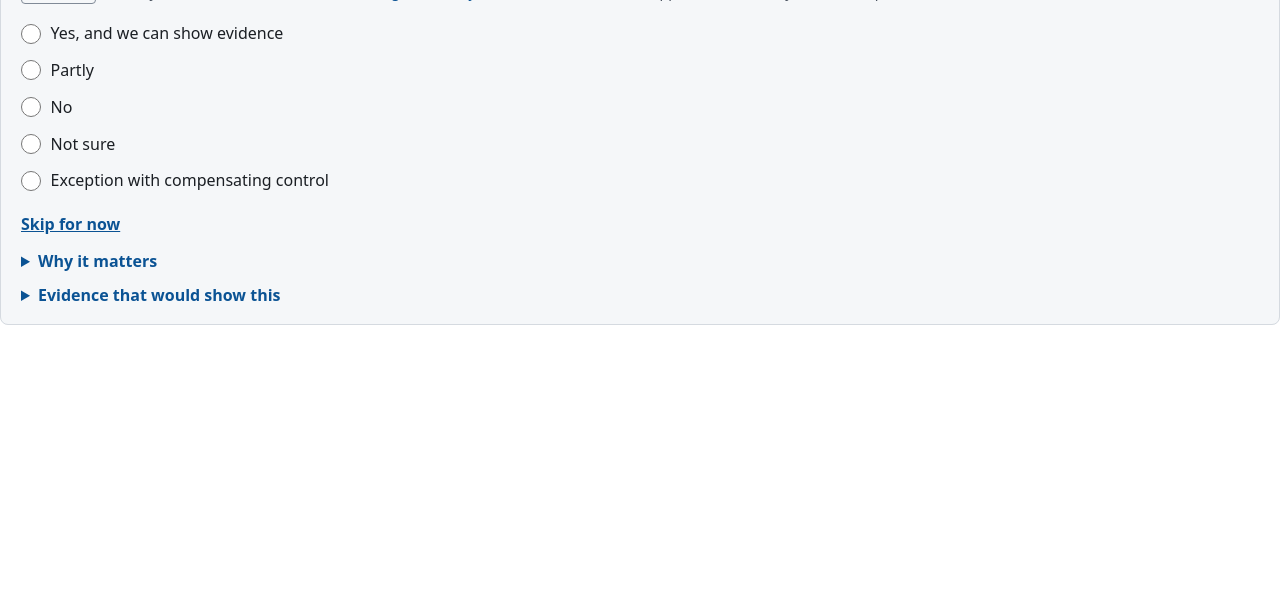
QuestionCard › asks for every exception field until each is filled in
This screenshot has width=1280, height=600.
Click the radio button labelled "Exception with compensating control". click: x=31, y=181
box: [21,171,41,191]
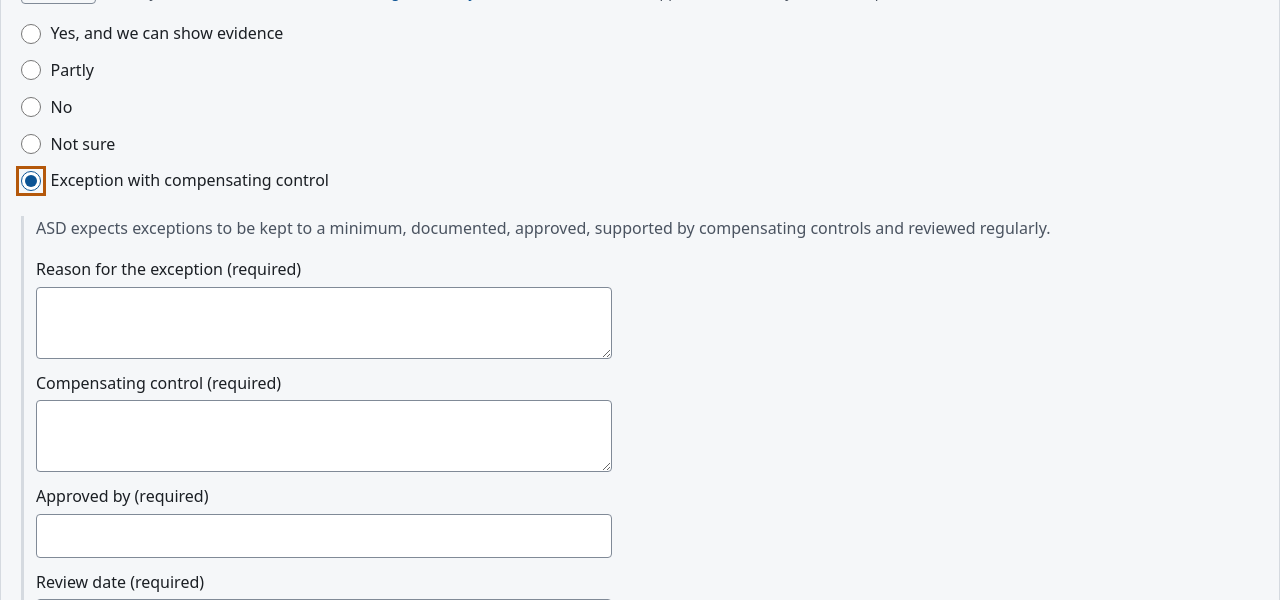
Type "Legacy app" into the text box labelled "Reason for the exception (required)". click: x=324, y=323
box: [36,287,612,359]
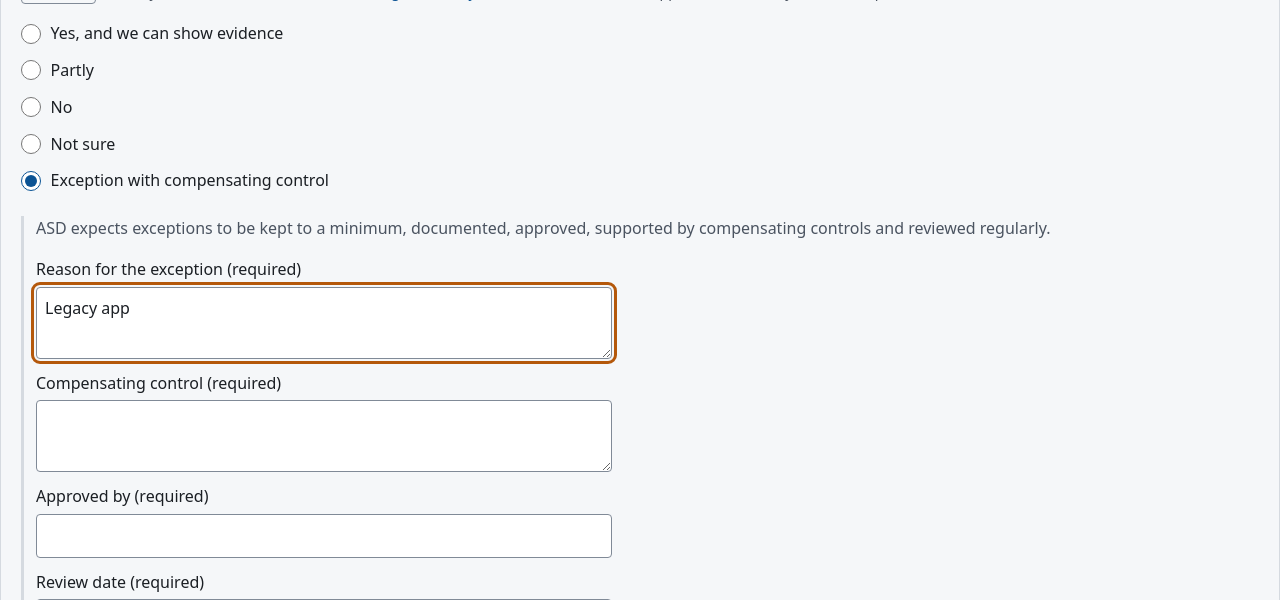
Type "Isolated network" into the text box labelled "Compensating control (required)". click: x=324, y=436
box: [36,400,612,472]
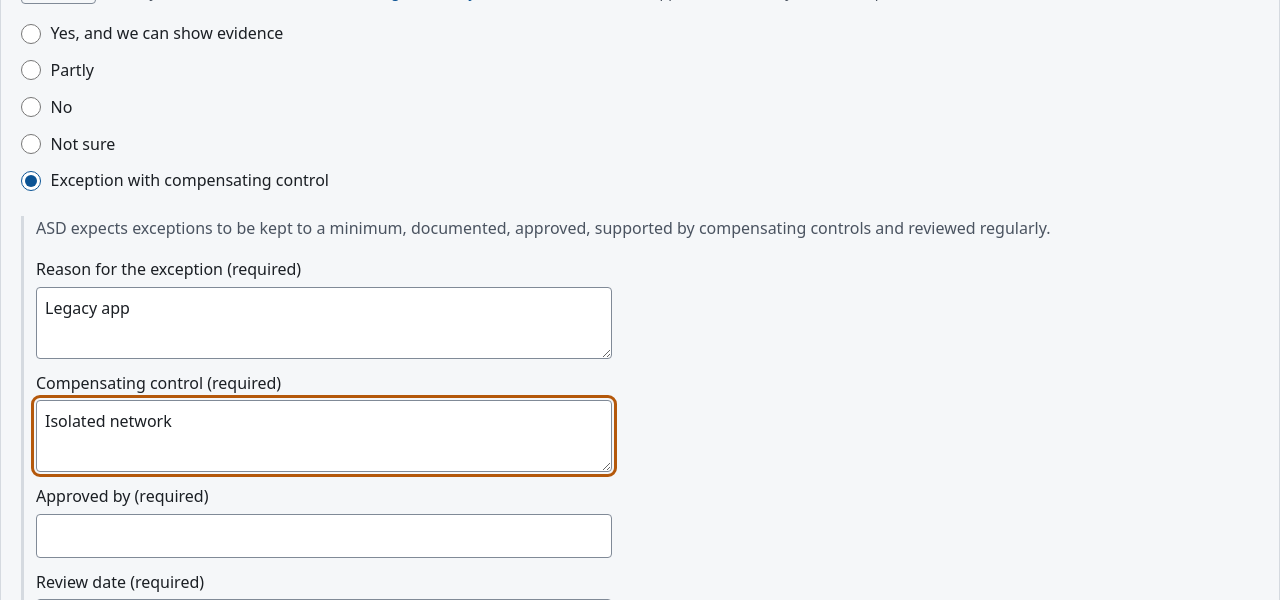
Type "CEO" into the field labelled "Approved by (required)". click: x=324, y=536
box: [36,514,612,558]
(page scrolled)
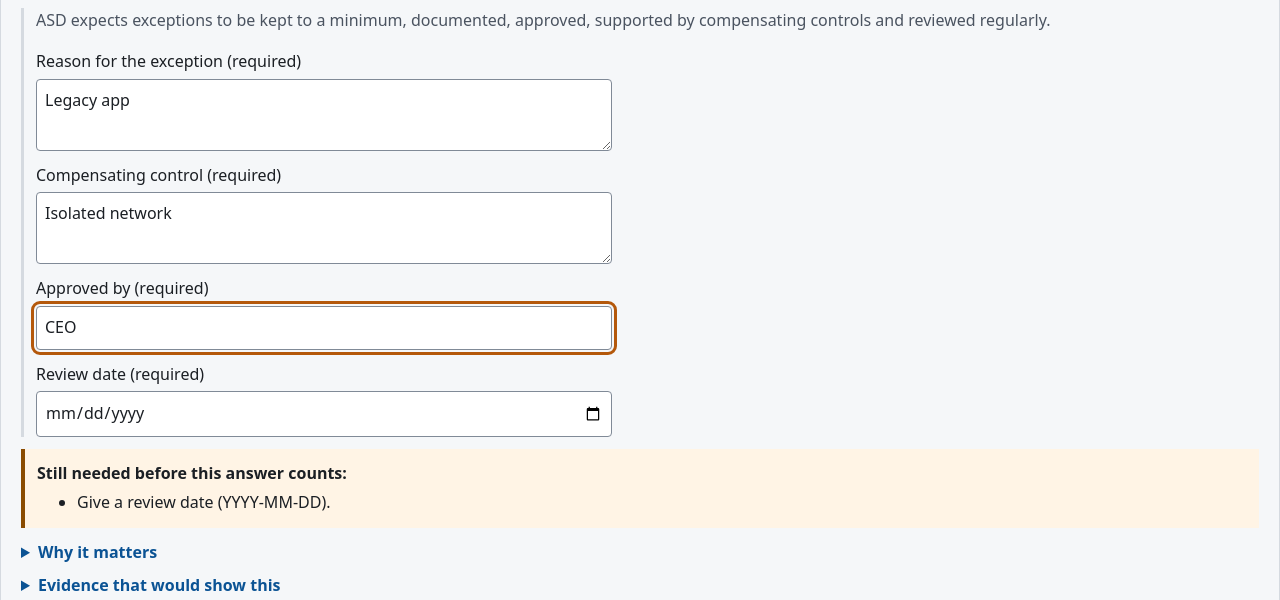
Type "2027-03-31" into the date field labelled "Review date (required)". click: x=324, y=414
box: [36,391,612,437]
(page scrolled)
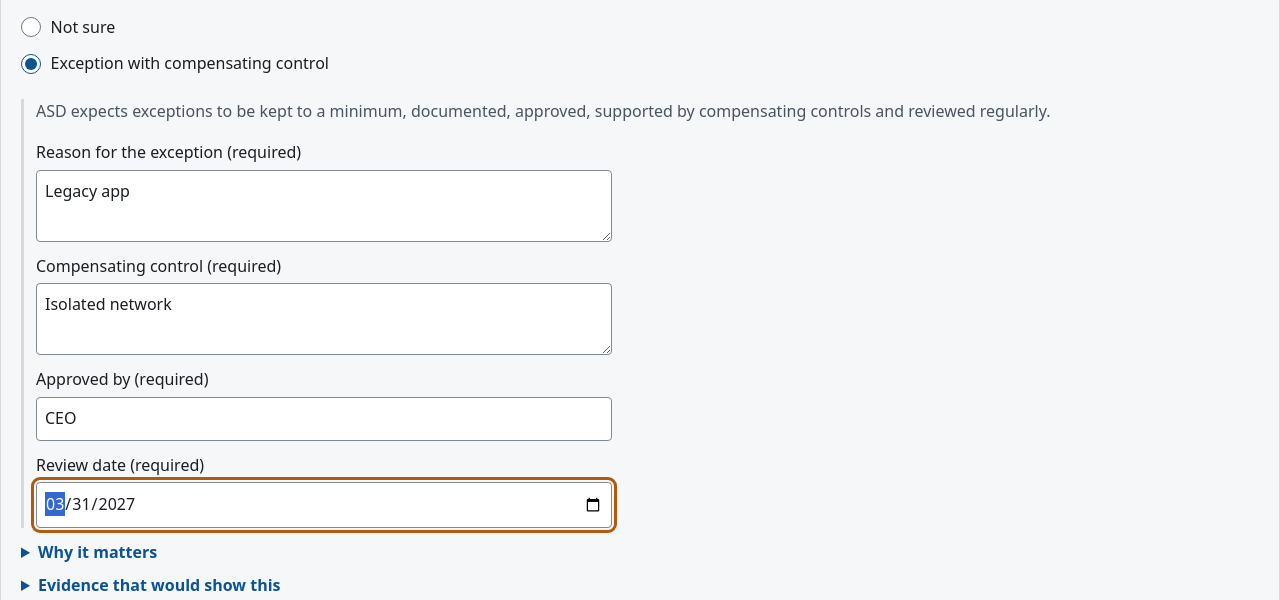
expect the text "Still needed" is gone: met
